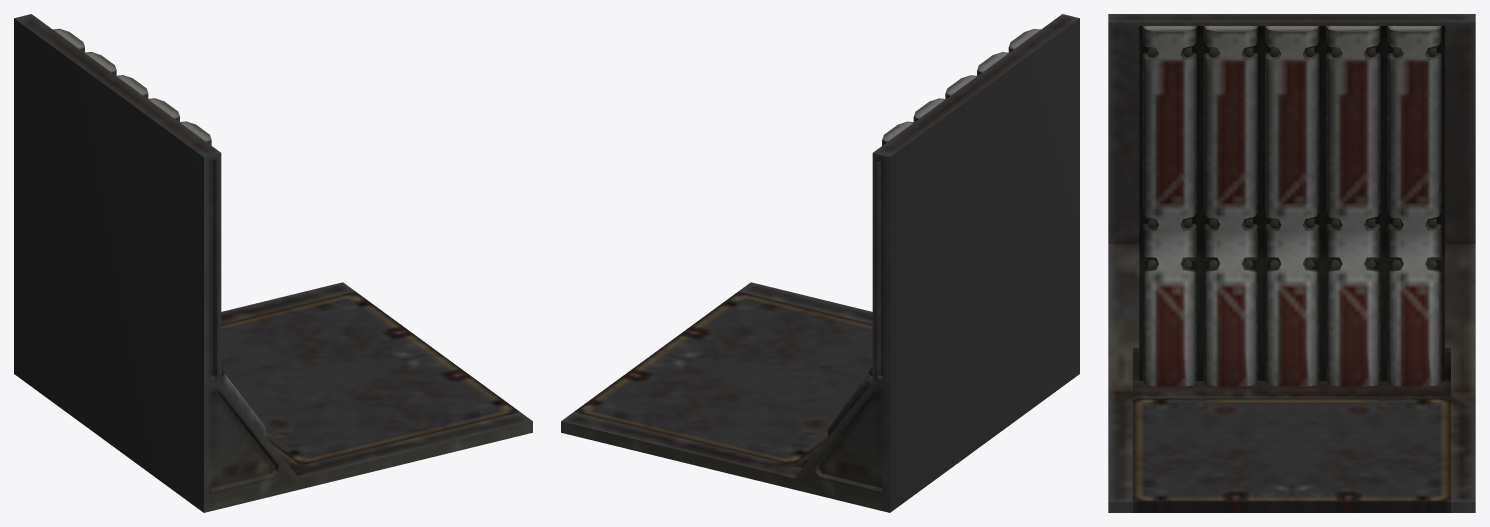
Rendered from Wall-Floor_23.FBX.
3 views of the same model, side by side, from view 1: azimuth 30°, elevation 25°; view 2: azimuth 150°, elevation 25°; view 3: azimuth 270°, elevation 25° (orthographic). The views are drawn at different scales.
Visible parts, largest first — view 1: Wall-Floor_23; view 2: Wall-Floor_23; view 3: Wall-Floor_23.
Boxes of the visible parts, left/top/right/bottom form: Wall-Floor_23: left=14, top=14, right=532, bottom=512; Wall-Floor_23: left=561, top=14, right=1079, bottom=512; Wall-Floor_23: left=1108, top=14, right=1475, bottom=512.
Bounding box in the file's own units: 300 × 310 × 300.
